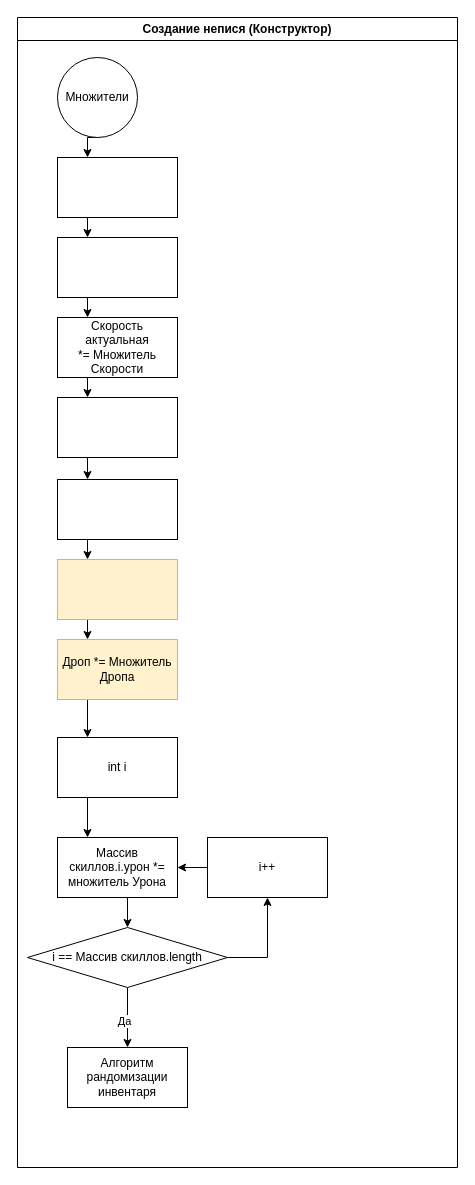
This 475x1185 diagram has some shape labels left out. Here are the shapes that lost their labels. From the top down, the centre of each, then its label:
the point at 117,187: ХП Актуальное *= Множитель ХП
the point at 117,267: Броня *= Множитель Брони
the point at 117,427: Высота прыжка *= Множитель Прыжка
the point at 117,509: Шанс уворота *= Множитель уворота
the point at 117,589: Приносимая экспа *= Множитель Экспы
